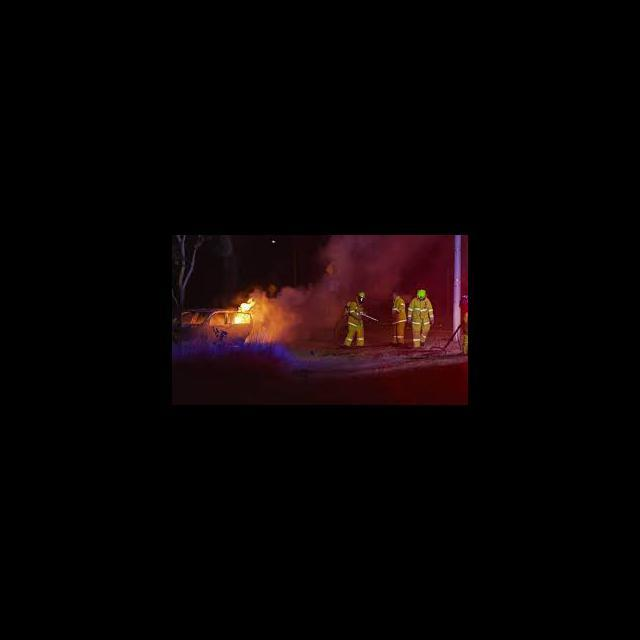Fire: (228, 295, 255, 327)
Smoke: (321, 236, 441, 288), (258, 288, 336, 344)
